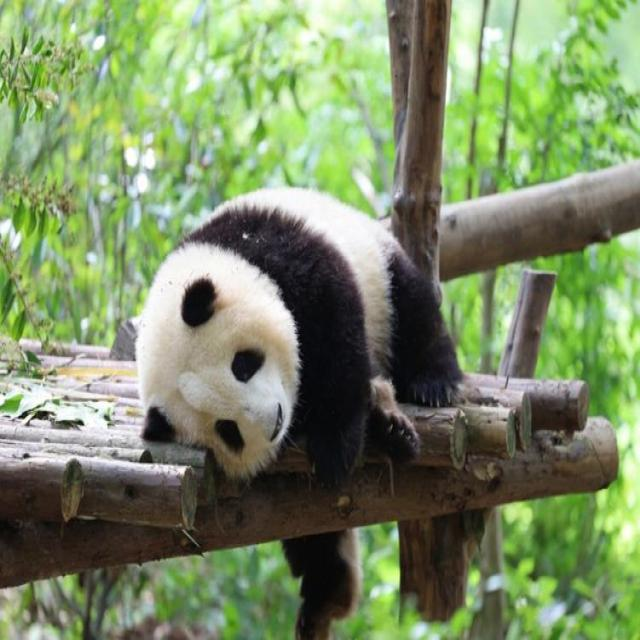panda: (93, 186, 501, 545)
